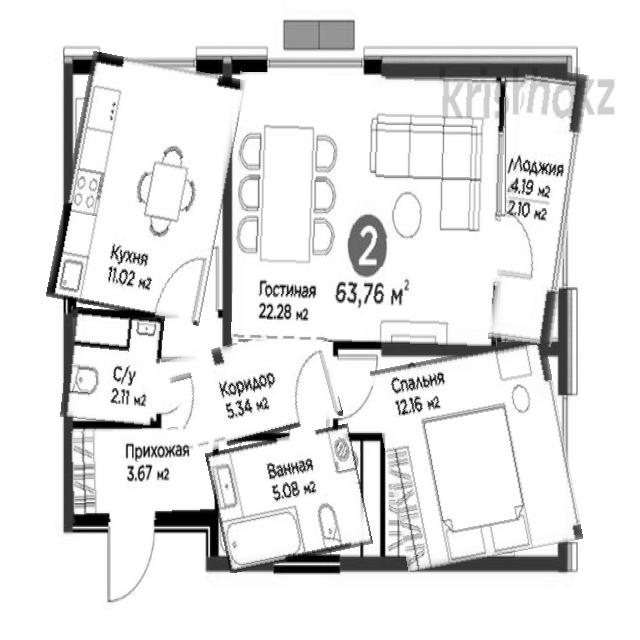balcony: (497, 67, 580, 346)
bathroom: (210, 430, 368, 567), (64, 309, 162, 424)
hallway: (170, 331, 339, 447), (68, 428, 217, 522)
kitchen: (57, 58, 235, 320)
living_room: (234, 74, 504, 345), (379, 344, 574, 565)
